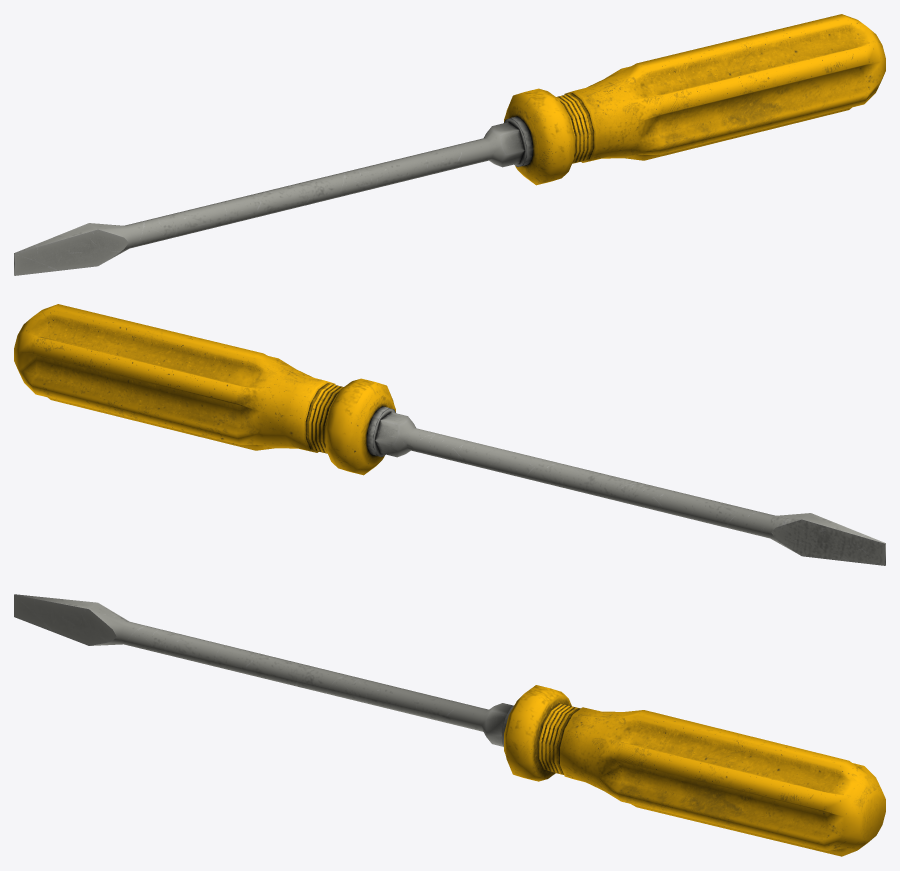
The model's file is Screwdriver_Yellow.fbx.
3 renders of one model, top to bottom at view 1: azimuth 30°, elevation 25°; view 2: azimuth 150°, elevation 25°; view 3: azimuth 330°, elevation 25°, orthographic.
Visible parts, largest first — view 1: Screwdriver Lowpoly 3DC; view 2: Screwdriver Lowpoly 3DC; view 3: Screwdriver Lowpoly 3DC.
Part boxes in pixels (<box>): Screwdriver Lowpoly 3DC: <box>14,14,885,275</box>; Screwdriver Lowpoly 3DC: <box>14,304,885,565</box>; Screwdriver Lowpoly 3DC: <box>14,594,885,856</box>.
Size of the model in its own units: 25.37 by 2.6 by 2.4.
